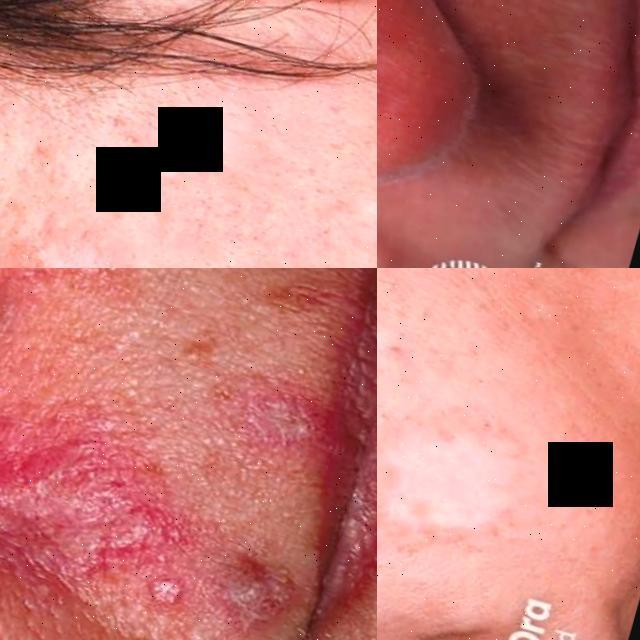lupus-detected: (0, 268, 377, 640), (377, 0, 467, 202), (0, 0, 69, 210)
